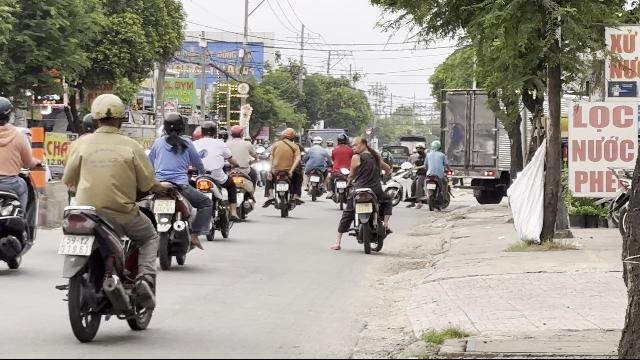helmet: (162, 111, 184, 135), (200, 120, 216, 138), (82, 112, 95, 132)
licenseplate: (59, 235, 93, 255), (153, 199, 174, 213), (356, 203, 372, 213)
motorcyclist: (53, 93, 169, 343), (144, 111, 208, 267), (336, 129, 394, 253), (192, 120, 234, 238)
nohelmet: (349, 136, 369, 158)
